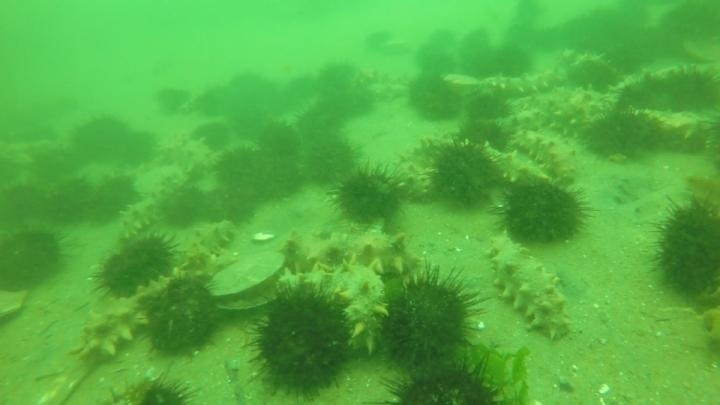echinus: (246, 279, 357, 400), (377, 265, 483, 372), (650, 192, 719, 303), (139, 271, 223, 360), (495, 176, 593, 248), (384, 353, 508, 404), (93, 231, 180, 301), (162, 170, 256, 231), (425, 138, 502, 212), (329, 162, 407, 227), (1, 225, 67, 293), (217, 71, 286, 134), (581, 108, 656, 162), (313, 60, 377, 122), (271, 74, 332, 131), (69, 114, 133, 166), (301, 134, 361, 187), (84, 174, 141, 228), (660, 65, 719, 116), (108, 372, 199, 405), (213, 143, 269, 196), (405, 73, 462, 124), (41, 177, 97, 227), (563, 50, 622, 95), (659, 1, 718, 44), (159, 183, 211, 230), (454, 27, 498, 79), (292, 101, 346, 142), (1, 182, 48, 228), (328, 80, 377, 123), (456, 118, 511, 155), (212, 184, 259, 227), (256, 119, 302, 161), (460, 42, 506, 83), (114, 128, 159, 169), (255, 160, 306, 196), (614, 71, 661, 109), (489, 43, 535, 81), (464, 90, 512, 125), (190, 119, 234, 154), (414, 43, 458, 78), (153, 85, 191, 117)
holothurian: (275, 253, 391, 359), (485, 236, 573, 341), (277, 224, 426, 283), (325, 258, 392, 355), (71, 295, 153, 367), (390, 132, 456, 201), (625, 103, 718, 149), (507, 127, 579, 185), (538, 84, 611, 140), (172, 218, 237, 276), (477, 141, 553, 189), (484, 66, 567, 101), (156, 135, 223, 177), (129, 162, 192, 203), (114, 196, 164, 245), (493, 105, 556, 143)
scallop: (203, 248, 290, 314), (128, 162, 192, 203), (639, 57, 711, 86), (680, 31, 720, 66), (1, 285, 30, 328)
starfish: (683, 172, 720, 215)
